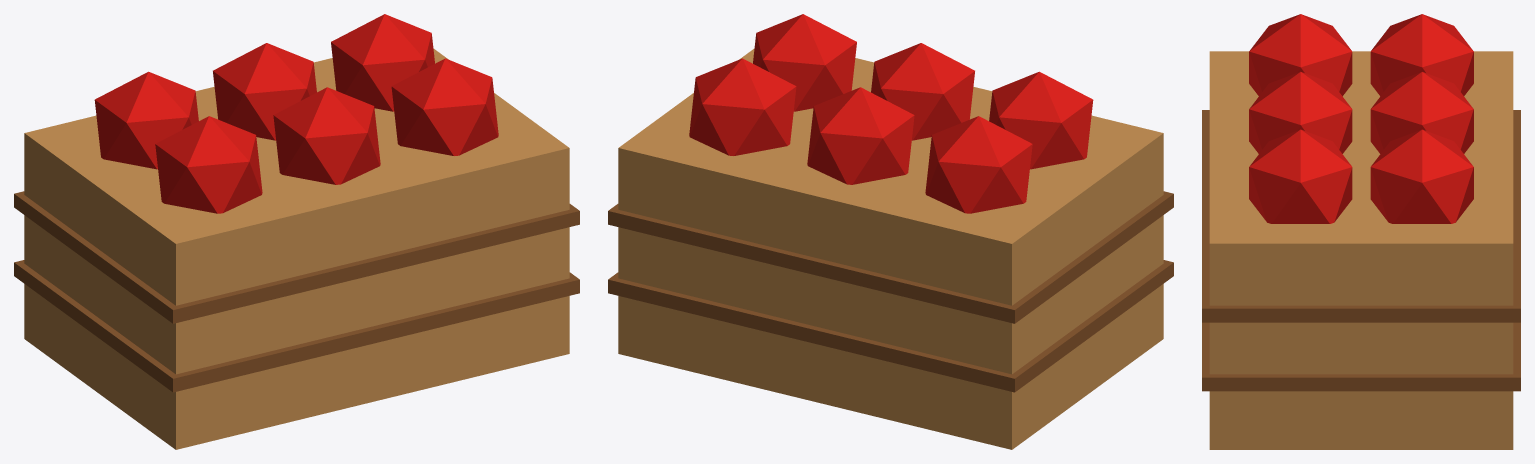
File: apple_crate.glb
3 views of the same model, side by side, from view 1: azimuth 30°, elevation 25°; view 2: azimuth 150°, elevation 25°; view 3: azimuth 270°, elevation 25° (orthographic).
Visible parts, largest first — view 1: apple_crate; view 2: apple_crate; view 3: apple_crate.
Part boxes in pixels (left/top/right/bottom): apple_crate: left=14, top=14, right=579, bottom=449; apple_crate: left=608, top=14, right=1173, bottom=449; apple_crate: left=1202, top=14, right=1520, bottom=449.
Size of the model in its own units: 0.62 by 0.41 by 0.42.
